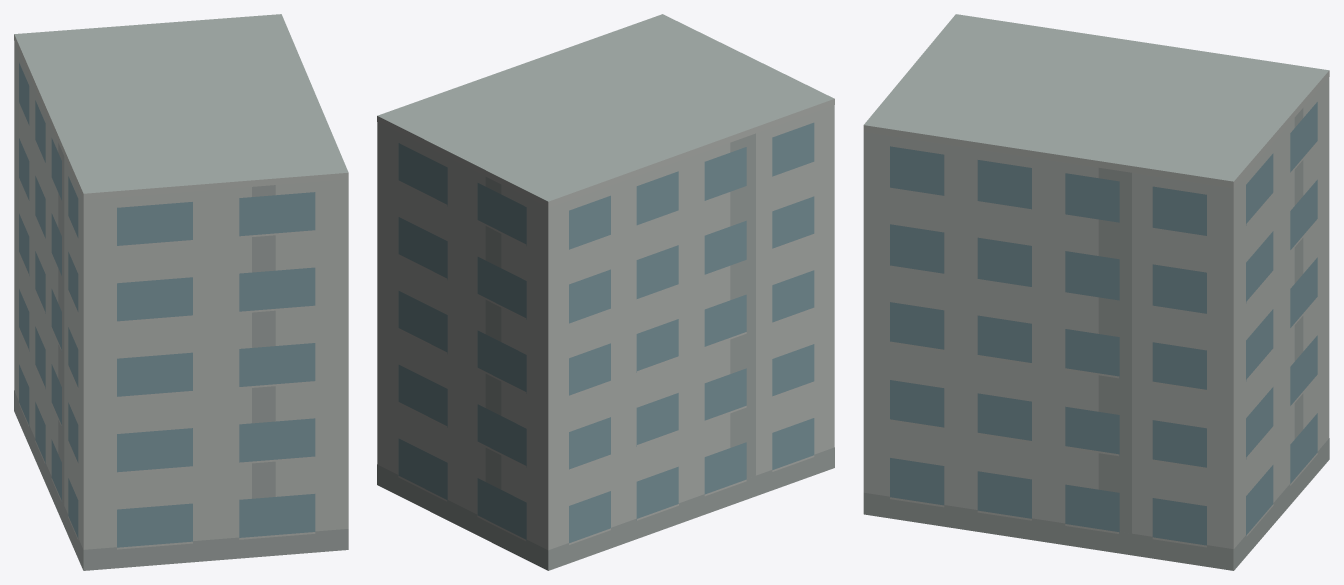
Rendered from survey-upis-32890003.glb.
The picture shows the model from 3 angles, left to right: view 1: azimuth 30°, elevation 25°; view 2: azimuth 150°, elevation 25°; view 3: azimuth 270°, elevation 25°; orthographic projection. The views are drawn at different scales.
Parts seen in each view (by area): view 1: survey-upis-32890003.tmp; view 2: survey-upis-32890003.tmp; view 3: survey-upis-32890003.tmp.
Boxes of the visible parts, box(x1,y1,x2,y2) form: survey-upis-32890003.tmp: box(14, 14, 348, 570); survey-upis-32890003.tmp: box(377, 14, 834, 570); survey-upis-32890003.tmp: box(863, 14, 1329, 570).
Bounding box in the file's own units: 13.03 × 14.1 × 15.3.
